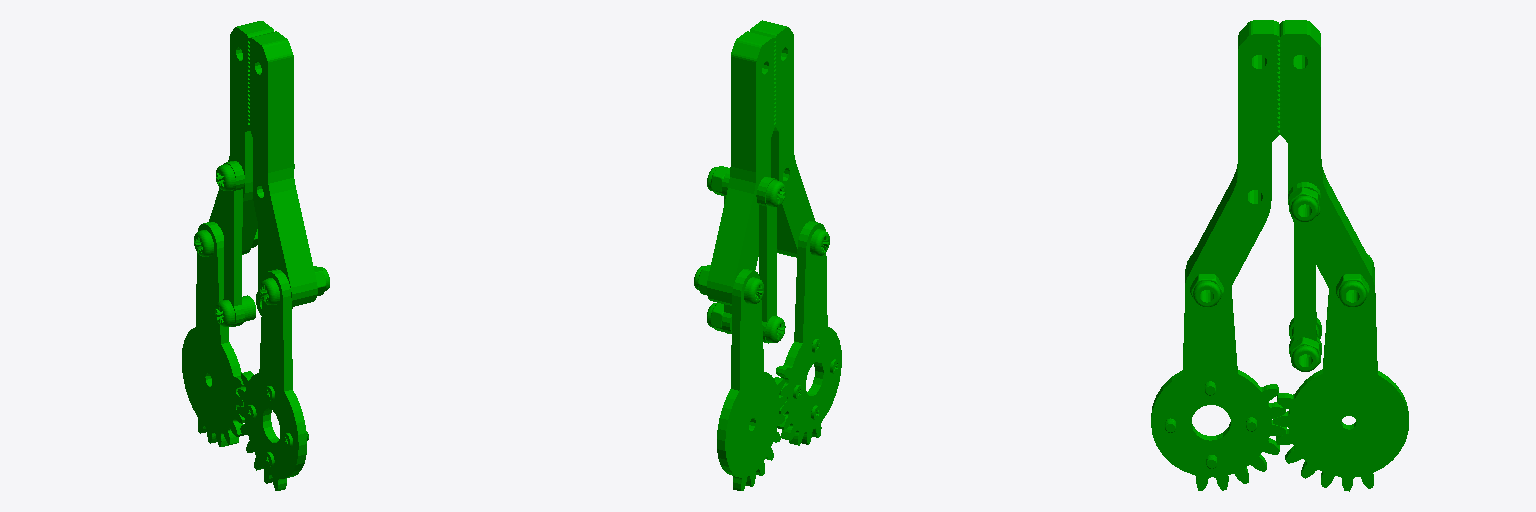
The robot description file, URDF, robot "x3plus_gripper":
<?xml version="1.0" encoding="utf-8"?>
   <robot name="x3plus_gripper">
    <link name="gripper_base"/>
    <link name="rlink1">
        <inertial>
            <origin xyz="0.00653227489887718 0.000416767821288678 0.000980984132845697" rpy="0 0 0"/>
            <mass value="0.00117883201961805"/>
            <inertia
                    ixx="3.30415008842026E-08"
                    ixy="8.05114594599862E-09"
                    ixz="-1.46441757999184E-10"
                    iyy="1.67254031134004E-07"
                    iyz="-9.31932225400159E-12"
                    izz="1.99277285249309E-07"/>
        </inertial>
        <visual>
            <origin xyz="0 0 0" rpy="0 0 0"/>
            <geometry>
                <mesh filename="package://meshes/X3plus/visual/rlink1.obj"/>
            </geometry>
            <material name="">
                <color rgba="0 0.7 0 1"/>
            </material>
        </visual>
        <collision>
            <origin xyz="0 0 0" rpy="0 0 0"/>
            <geometry>
                <mesh filename="package://meshes/X3plus/collision/rlink1.obj"/>
            </geometry>
        </collision>
    </link>
    <joint name="grip_joint" type="fixed">
        <origin xyz="-0.0035 -0.012625 -0.0685" rpy="0 -1.5708 0"/>
        <parent link="gripper_base"/>
        <child link="rlink1"/>
        <axis xyz="0 0 1"/>
        <limit lower="-1.54" upper="0" effort="100" velocity="1"/>
    </joint>
    <link name="rlink2">
        <inertial>
            <origin xyz="0.021158 0.0063295 -0.0030251" rpy="0 0 0"/>
            <mass value="0.0024469"/>
            <inertia
                    ixx="5.188E-08"
                    ixy="-1.2303E-07"
                    ixz="-1.2978E-09"
                    iyy="6.3204E-07"
                    iyz="-3.8824E-10"
                    izz="6.6364E-07"/>
        </inertial>
        <visual>
            <origin xyz="0 0 0" rpy="0 0 0"/>
            <geometry>
                <mesh filename="package://meshes/X3plus/visual/rlink2.obj"/>
            </geometry>
            <material name="">
                <color rgba="0 0.7 0 1"/>
            </material>
        </visual>
        <collision>
            <origin xyz="0 0 0" rpy="0 0 0"/>
            <geometry>
                <mesh filename="package://meshes/X3plus/collision/rlink2.obj"/>
            </geometry>
        </collision>
    </link>
    <joint name="rlink_joint2" type="fixed">
        <origin xyz="0.03 -0.00075429 0" rpy="0 0 0"/>
        <parent link="rlink1"/>
        <child link="rlink2"/>
        <axis xyz="0 0 1"/>
    </joint>
    <link name="rlink3">
        <inertial>
            <origin xyz="0.014355 1.1499E-05 -0.0033992" rpy="0 0 0"/>
            <mass value="0.00087627"/>
            <inertia
                    ixx="2.0534E-08"
                    ixy="-1.0235E-10"
                    ixz="1.074E-09"
                    iyy="1.4825E-07"
                    iyz="8.7073E-13"
                    izz="1.3089E-07"/>
        </inertial>
        <visual>
            <origin xyz="0 0 0" rpy="0 0 0"/>
            <geometry>
                <mesh filename="package://meshes/X3plus/visual/rlink3.obj"/>
            </geometry>
            <material name="">
                <color rgba="0 0.7 0 1"/>
            </material>
        </visual>
        <collision>
            <origin xyz="0 0 0" rpy="0 0 0"/>
            <geometry>
                <mesh filename="package://meshes/X3plus/collision/rlink3.obj"/>
            </geometry>
        </collision>
    </link>
    <joint name="rlink_joint3" type="fixed">
        <origin xyz="-0.0035 -0.0045 -0.0505" rpy="0 -1.5708 0"/>
        <parent link="gripper_base"/>
        <child link="rlink3"/>
        <axis xyz="0 0 1"/>
    </joint>
    <link name="llink1">
        <inertial>
            <origin xyz="0.00628617364795481 -0.000318530407893543 0.00100000338924466" rpy="0 0 0"/>
            <mass value="0.00121010771282268"/>
            <inertia
                    ixx="3.18226609060835E-08"
                    ixy="-8.06236004452728E-09"
                    ixz="3.99064856025629E-14"
                    iyy="1.69267681405915E-07"
                    iyz="1.87039773440675E-14"
                    izz="2.00283878176223E-07"/>
        </inertial>
        <visual>
            <origin xyz="0 0 0" rpy="0 0 0"/>
            <geometry>
                <mesh filename="package://meshes/X3plus/visual/llink1.obj"/>
            </geometry>
            <material name="">
                <color rgba="0 0.7 0 1"/>
            </material>
        </visual>
        <collision>
            <origin xyz="0 0 0" rpy="0 0 0"/>
            <geometry>
                <mesh filename="package://meshes/X3plus/collision/llink1.obj"/>
            </geometry>
        </collision>
    </link>
    <joint name="llink_joint1" type="fixed">
        <origin xyz="-0.0035 0.012375 -0.0685" rpy="0 -1.5708 0"/>
        <parent link="gripper_base"/>
        <child link="llink1"/>
        <axis xyz="0 0 1"/>
    </joint>
    <link name="llink2">
        <inertial>
            <origin xyz="0.021159 -0.0063248 -0.0030251" rpy="0 0 0"/>
            <mass value="0.0024469"/>
            <inertia ixx="5.1826E-08" ixy="1.229E-07" ixz="-1.2979E-09" iyy="6.321E-07" iyz="3.8796E-10"
                     izz="6.6364E-07"/>
        </inertial>
        <visual>
            <origin xyz="0 0 0" rpy="0 0 0"/>
            <geometry>
                <mesh filename="package://meshes/X3plus/visual/llink2.obj"/>
            </geometry>
            <material name="">
                <color rgba="0 0.7 0 1"/>
            </material>
        </visual>
        <collision>
            <origin xyz="0 0 0" rpy="0 0 0"/>
            <geometry>
                <mesh filename="package://meshes/X3plus/collision/llink2.obj"/>
            </geometry>
        </collision>
    </link>
    <joint name="llink_joint2" type="fixed">
        <origin xyz="0.03 0.00065104 0" rpy="0 0 0"/>
        <parent link="llink1"/>
        <child link="llink2"/>
        <axis xyz="0 0 1"/>
    </joint>
    <link name="llink3">
        <inertial>
            <origin xyz="0.014354 -7.4795E-05 -0.0033992" rpy="0 0 0"/>
            <mass value="0.00087627"/>
            <inertia ixx="2.0537E-08" ixy="6.6549E-10" ixz="1.074E-09" iyy="1.4825E-07" iyz="-5.5867E-12"
                     izz="1.3089E-07"/>
        </inertial>
        <visual>
            <origin xyz="0 0 0" rpy="0 0 0"/>
            <geometry>
                <mesh filename="package://meshes/X3plus/visual/llink3.obj"/>
            </geometry>
            <material name="">
                <color rgba="0 0.7 0 1"/>
            </material>
        </visual>
        <collision>
            <origin xyz="0 0 0" rpy="0 0 0"/>
            <geometry>
                <mesh filename="package://meshes/X3plus/collision/llink3.obj"/>
            </geometry>
        </collision>
    </link>
    <joint name="llink_joint3" type="fixed">
        <origin xyz="-0.0035 0.0045 -0.0505" rpy="0 -1.5708 0"/>
        <parent link="gripper_base"/>
        <child link="llink3"/>
        <axis xyz="0 0 1"/>
    </joint>
</robot>

--- Render facts (derived) ---
The picture shows the robot from 3 angles, left to right: view 1: azimuth 30°, elevation 25°; view 2: azimuth 150°, elevation 25°; view 3: azimuth 270°, elevation 25°; orthographic projection.
Model x3plus_gripper with 7 links and 6 joints (6 fixed), rooted at gripper_base, posed all joints at 0.
Visible links, largest first — view 1: rlink2, rlink1, llink1, llink2, llink3; view 2: llink2, llink1, rlink1, rlink2, llink3; view 3: llink1, rlink1, rlink2, llink2, llink3.
Boxes of the visible links, box(x1,y1,x2,y2) form: rlink2: box(249, 31, 329, 306); rlink1: box(237, 269, 308, 490); llink1: box(182, 222, 244, 446); llink2: box(194, 21, 273, 256); llink3: box(215, 161, 294, 326); llink2: box(694, 31, 774, 305); llink1: box(717, 269, 786, 490); rlink1: box(776, 221, 841, 445); rlink2: box(750, 20, 829, 257); llink3: box(707, 166, 785, 343); llink1: box(1273, 254, 1408, 491); rlink1: box(1151, 255, 1286, 490); rlink2: box(1185, 20, 1279, 307); llink2: box(1280, 20, 1374, 307); llink3: box(1288, 182, 1321, 371).
Size in the robot's own frame: 0.016 by 0.0469 by 0.0943 metres.
5 mesh visuals loaded from 6 distinct referenced files (5 OBJ); not drawn: 1 (reference not matched to a file when rendering).
